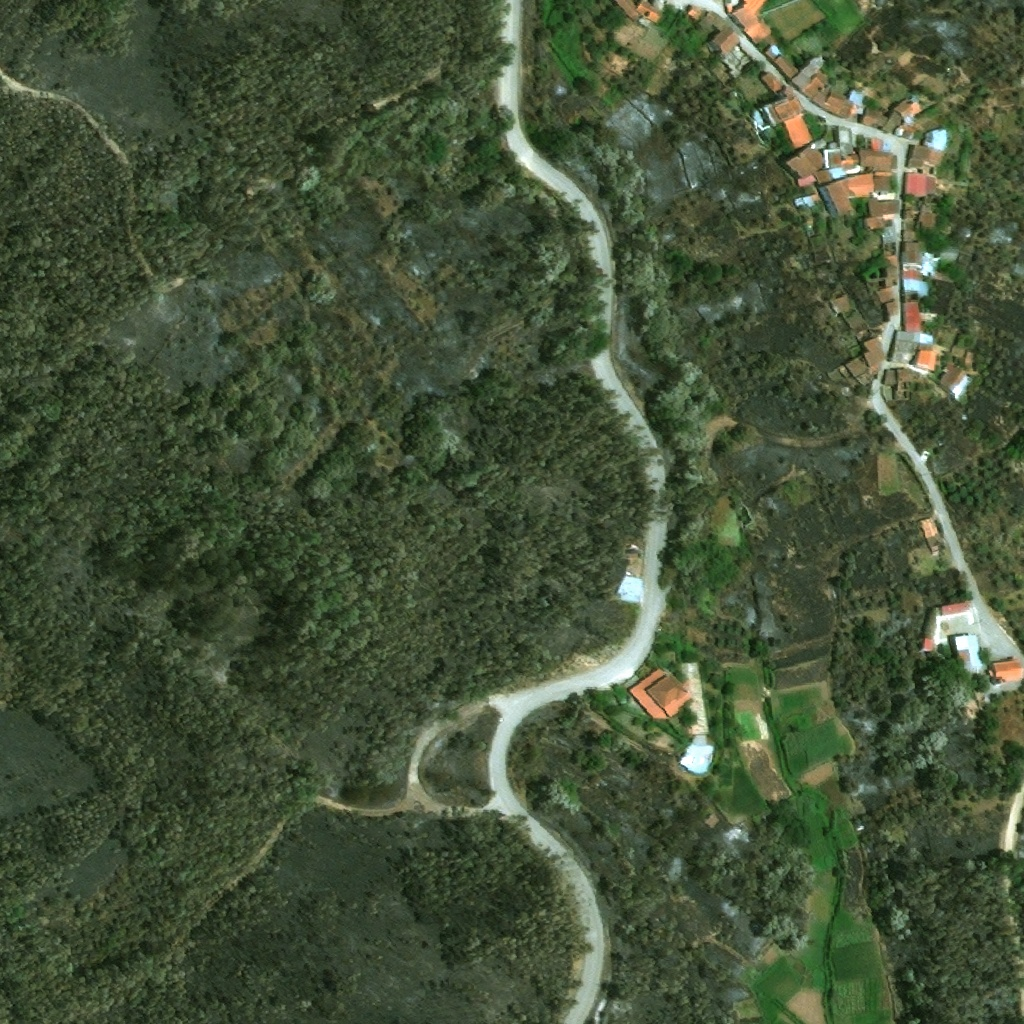0 no-damage: (786, 124, 899, 220), (887, 197, 942, 370), (790, 56, 863, 123), (866, 194, 900, 318), (680, 661, 716, 775), (628, 665, 694, 720), (763, 92, 815, 150), (684, 5, 741, 57), (861, 97, 923, 140), (725, 0, 778, 47), (904, 126, 947, 167), (762, 45, 799, 79), (915, 517, 946, 553), (936, 362, 967, 397), (952, 634, 982, 667), (987, 657, 1023, 684), (904, 172, 939, 197), (759, 69, 786, 97), (617, 577, 646, 603), (829, 289, 850, 316), (942, 602, 971, 617), (942, 243, 960, 259), (964, 347, 975, 368), (924, 638, 936, 651)
2 major-damage: (838, 308, 885, 384), (883, 368, 921, 400)
4 un-classified: (615, 0, 664, 30)
